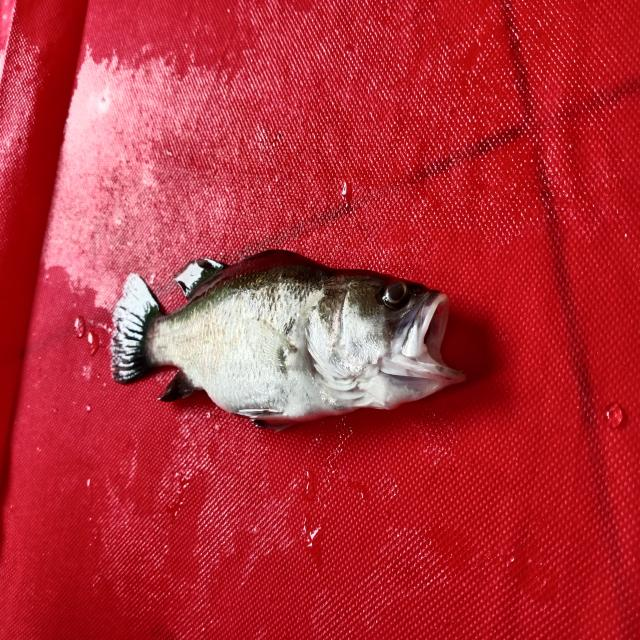ikan: (103, 214, 465, 441)
